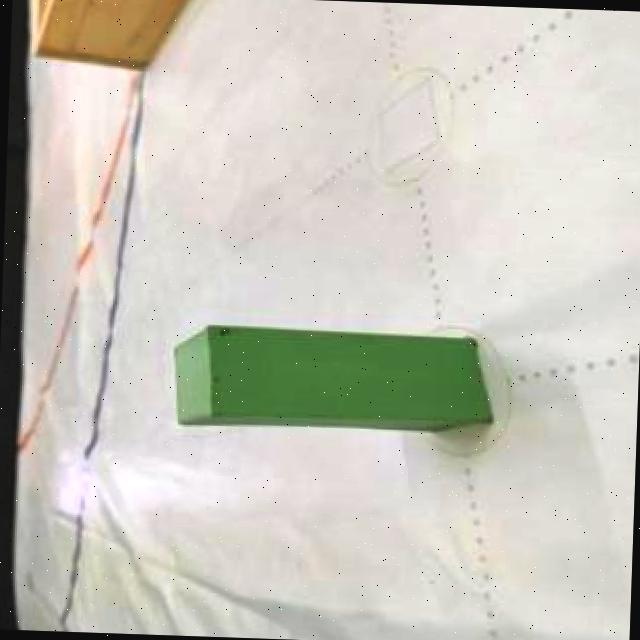greenbox: (161, 326, 494, 436)
